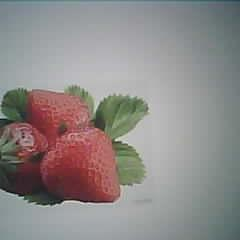straw-ripe: (41, 127, 120, 201)
